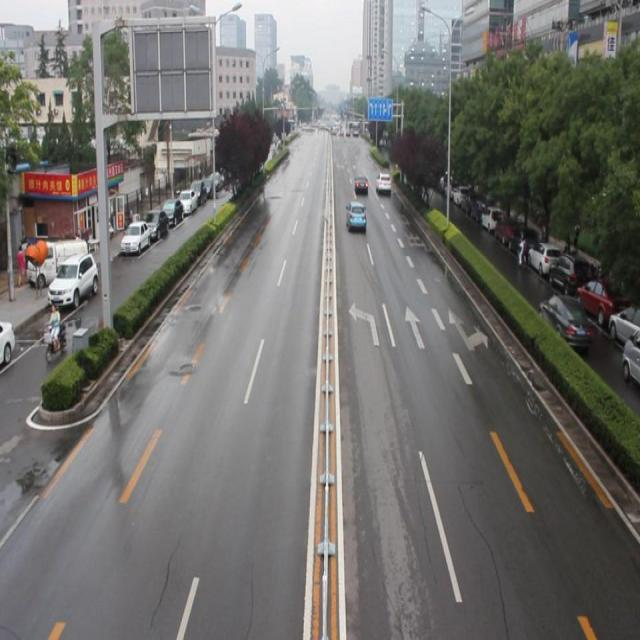car: (345, 202, 367, 232), (376, 170, 392, 193), (354, 174, 367, 193)
